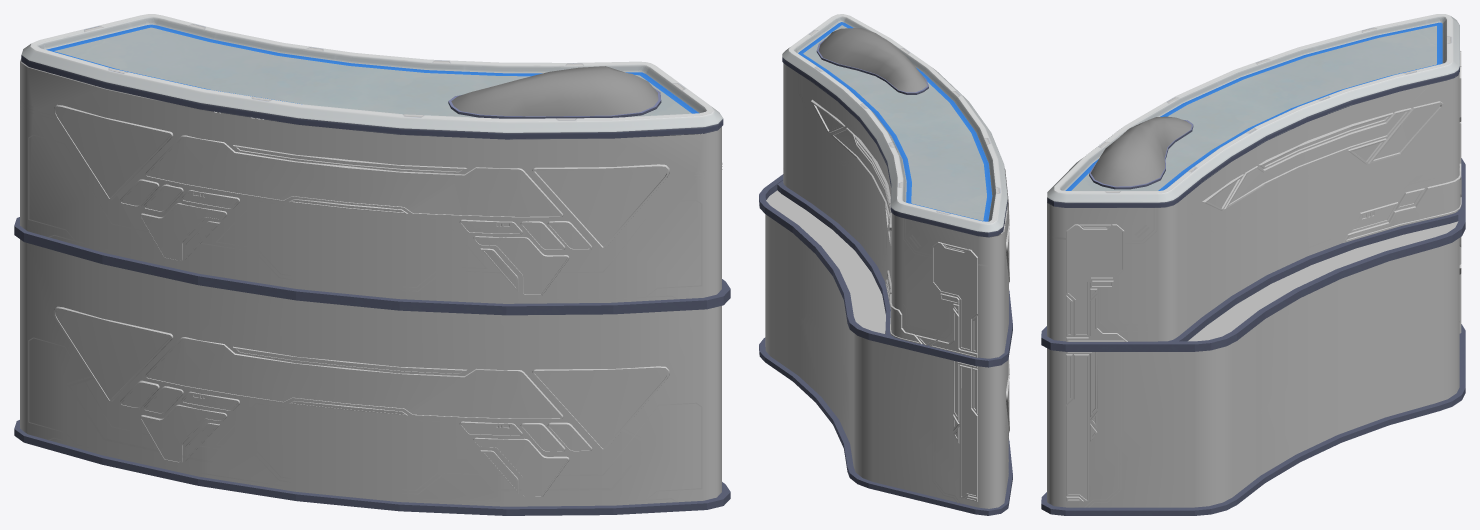
The model's file is mesh_1002_jxl_3.FBX.
3 renders of one model, left to right at view 1: azimuth 30°, elevation 25°; view 2: azimuth 150°, elevation 25°; view 3: azimuth 270°, elevation 25°, orthographic. The views are drawn at different scales.
Visible parts, largest first — view 1: mesh_1002_jxl_3a, mesh_1002_jxl_3d, mesh_1002_jxl_3e, mesh_1002_jxl_3c, mesh_1002_jxl_3f; view 2: mesh_1002_jxl_3a, mesh_1002_jxl_3d, mesh_1002_jxl_3e, mesh_1002_jxl_3c, mesh_1002_jxl_3b, mesh_1002_jxl_3f; view 3: mesh_1002_jxl_3a, mesh_1002_jxl_3d, mesh_1002_jxl_3c, mesh_1002_jxl_3e, mesh_1002_jxl_3f, mesh_1002_jxl_3b.
Part boxes in pixels (left/top/right/bottom): mesh_1002_jxl_3a: left=20, top=58, right=722, bottom=506; mesh_1002_jxl_3d: left=21, top=14, right=723, bottom=139; mesh_1002_jxl_3e: left=54, top=27, right=691, bottom=117; mesh_1002_jxl_3c: left=14, top=217, right=730, bottom=515; mesh_1002_jxl_3f: left=451, top=66, right=658, bottom=116; mesh_1002_jxl_3a: left=765, top=63, right=1009, bottom=508; mesh_1002_jxl_3d: left=782, top=14, right=1007, bottom=237; mesh_1002_jxl_3e: left=803, top=25, right=986, bottom=220; mesh_1002_jxl_3c: left=759, top=174, right=1012, bottom=515; mesh_1002_jxl_3b: left=766, top=190, right=885, bottom=333; mesh_1002_jxl_3f: left=818, top=28, right=927, bottom=92; mesh_1002_jxl_3a: left=1047, top=51, right=1461, bottom=507; mesh_1002_jxl_3d: left=1047, top=14, right=1459, bottom=207; mesh_1002_jxl_3c: left=1041, top=158, right=1465, bottom=515; mesh_1002_jxl_3e: left=1071, top=26, right=1436, bottom=190; mesh_1002_jxl_3f: left=1091, top=116, right=1191, bottom=186; mesh_1002_jxl_3b: left=1188, top=221, right=1458, bottom=341.
Size of the model in its own units: 1583 by 1316 by 1490.
